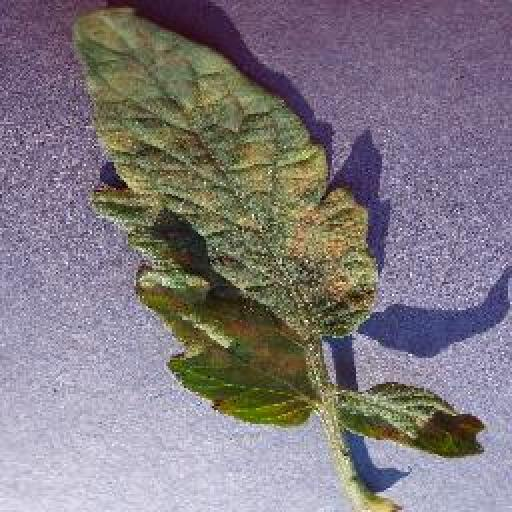disease_tomato: (72, 4, 379, 428)
